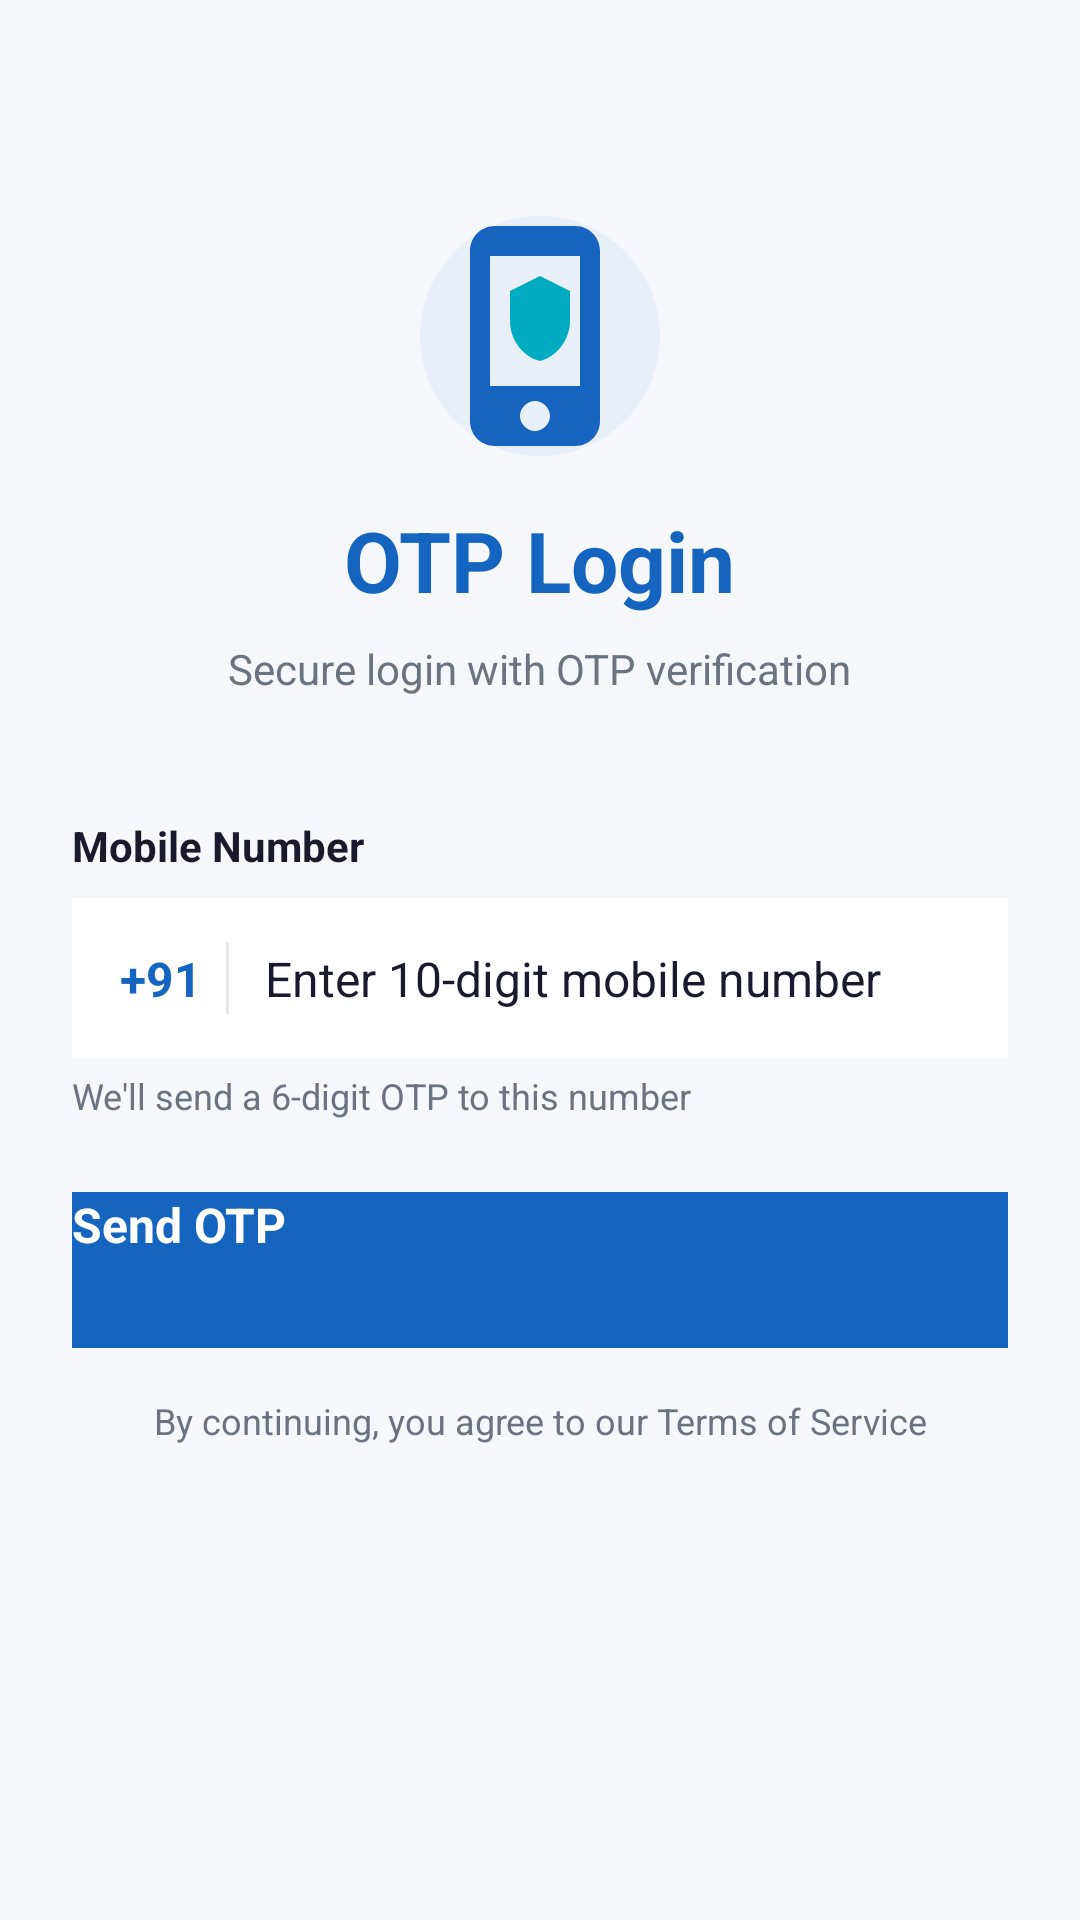

Screen size 1080×1920. Icon name, then its box in pixels as [x1=x1, y1=y1, x2=x2, y2=y2]:
phone auth: [x1=470, y1=226, x2=600, y2=446]
